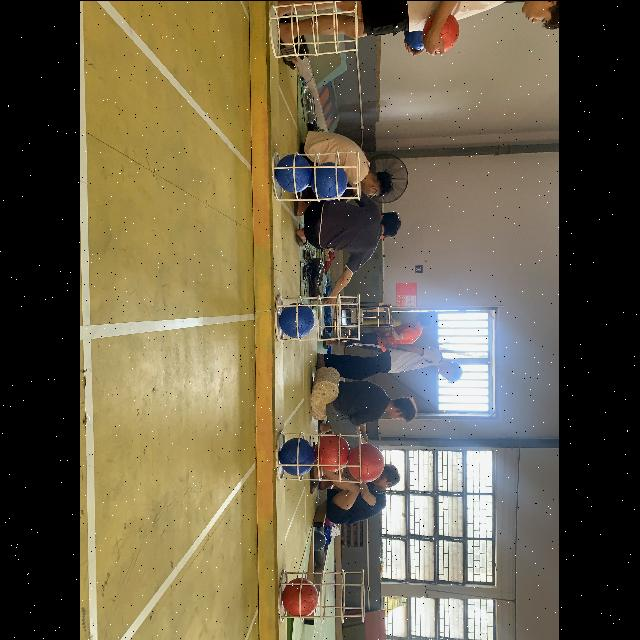B: (278, 436, 318, 474), (276, 154, 314, 192), (311, 162, 349, 200), (279, 302, 315, 338), (403, 26, 427, 52)
R: (424, 11, 462, 53), (282, 577, 321, 617), (348, 442, 386, 482), (315, 435, 351, 471)
